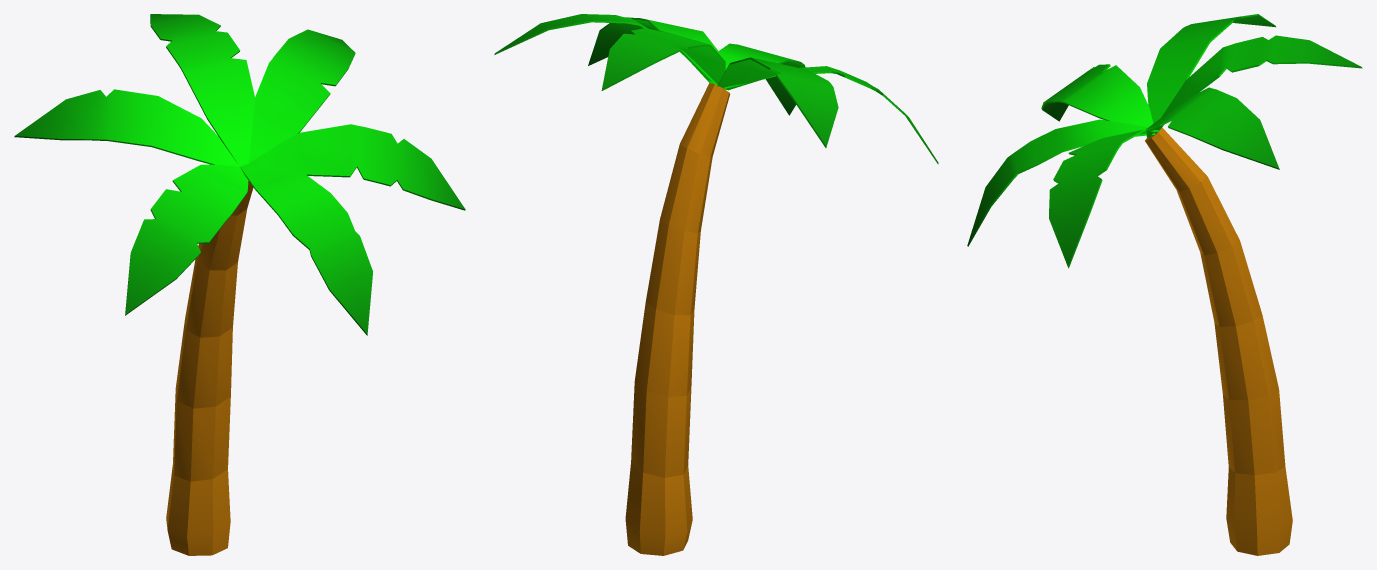
File: PohonKelapa.fbx
3 renders of one model, left to right at view 1: azimuth 30°, elevation 25°; view 2: azimuth 150°, elevation 25°; view 3: azimuth 270°, elevation 25°, orthographic. The views are drawn at different scales.
Visible parts, largest first — view 1: Tree_Palm; view 2: Tree_Palm; view 3: Tree_Palm.
Part boxes in pixels (x1=…): Tree_Palm: x1=14, y1=14, x2=465, y2=555; Tree_Palm: x1=494, y1=14, x2=938, y2=555; Tree_Palm: x1=967, y1=14, x2=1362, y2=555.
Bounding box in the file's own units: 154 × 217 × 157.
